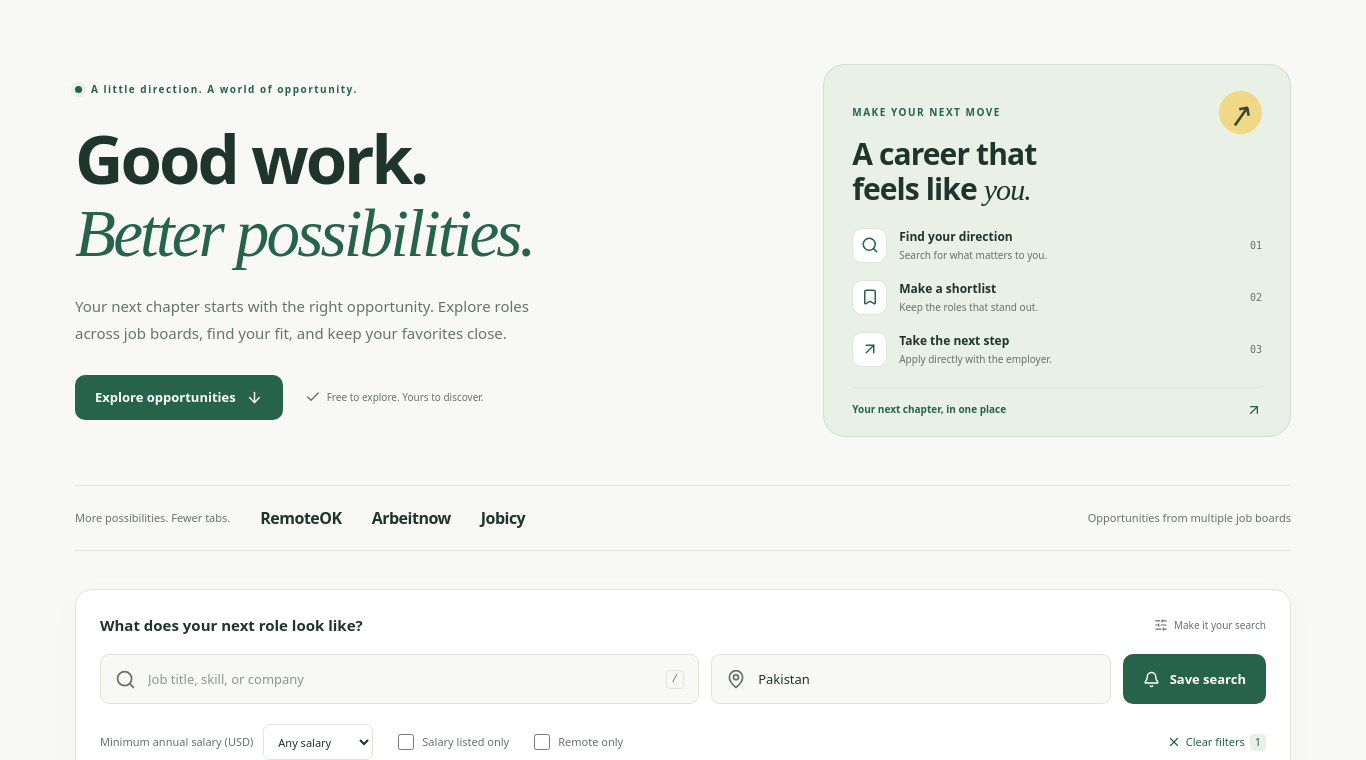
Test case: job feed › does not save searches while signed out
What coordinates should you click on to do the following:
click the button "Save search"
I would click on:
 (1194, 679)
Its box is [1123,654,1266,704].
(page scrolled)
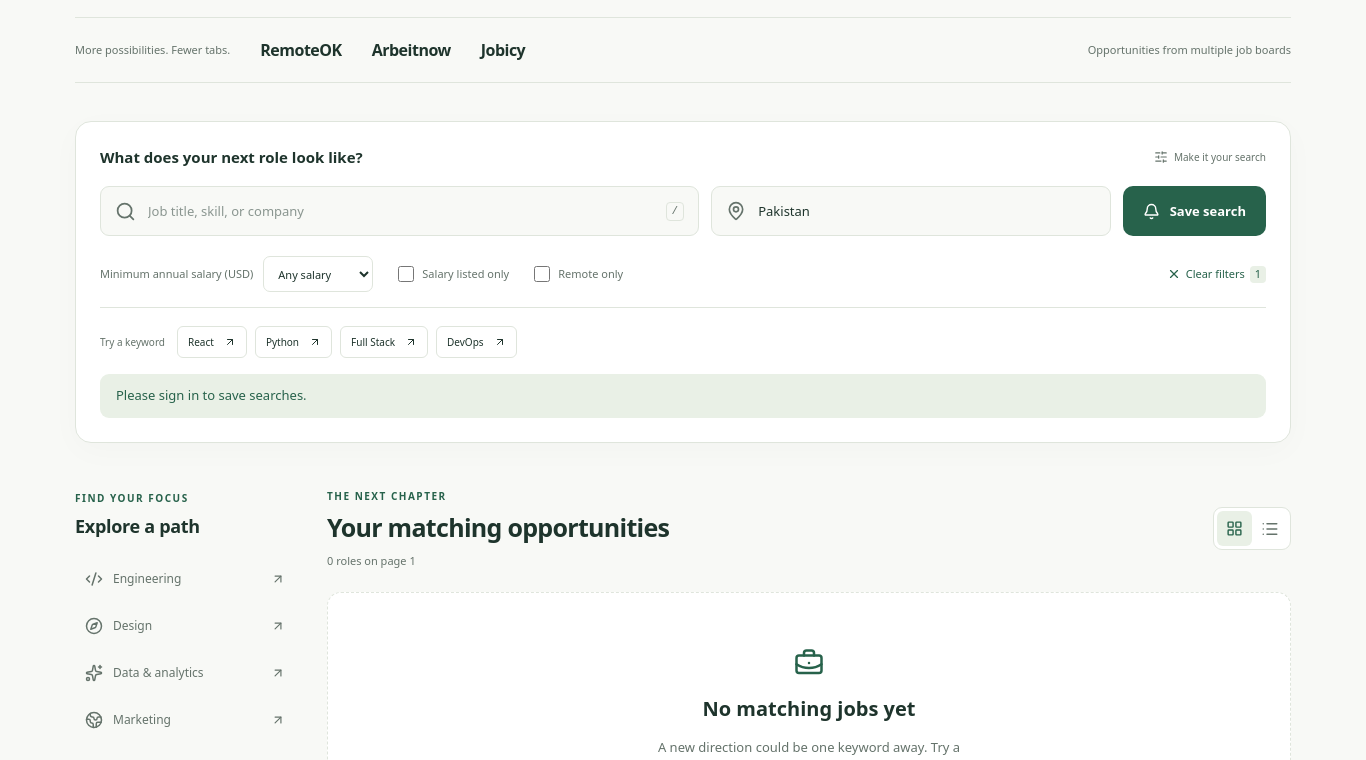
expect the text "Please sign in to save searches." is shown: met, box [100,374,1266,418]
